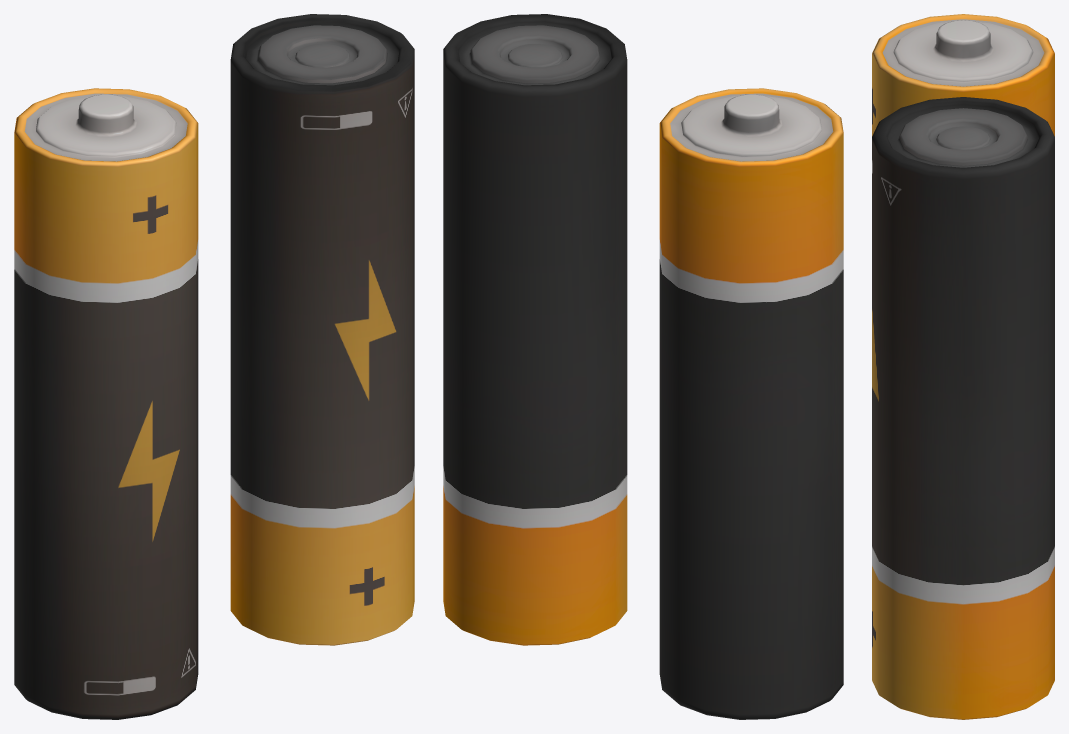
Rendered from batteries.fbx.
The picture shows the model from 3 angles, left to right: view 1: azimuth 30°, elevation 25°; view 2: azimuth 150°, elevation 25°; view 3: azimuth 270°, elevation 25°; orthographic projection.
Visible parts, largest first — view 1: battery_1, battery_2; view 2: battery_1, battery_2; view 3: battery_2, battery_1.
Boxes of the visible parts, bbox=[...] form: battery_1: bbox=[14, 88, 198, 719]; battery_2: bbox=[230, 14, 414, 645]; battery_1: bbox=[659, 88, 843, 719]; battery_2: bbox=[443, 14, 627, 645]; battery_2: bbox=[872, 97, 1054, 719]; battery_1: bbox=[872, 14, 1054, 136].
Bounding box in the file's own units: 1.28 × 1.88 × 0.5462.
Materials: 1 (1 with a texture image).
